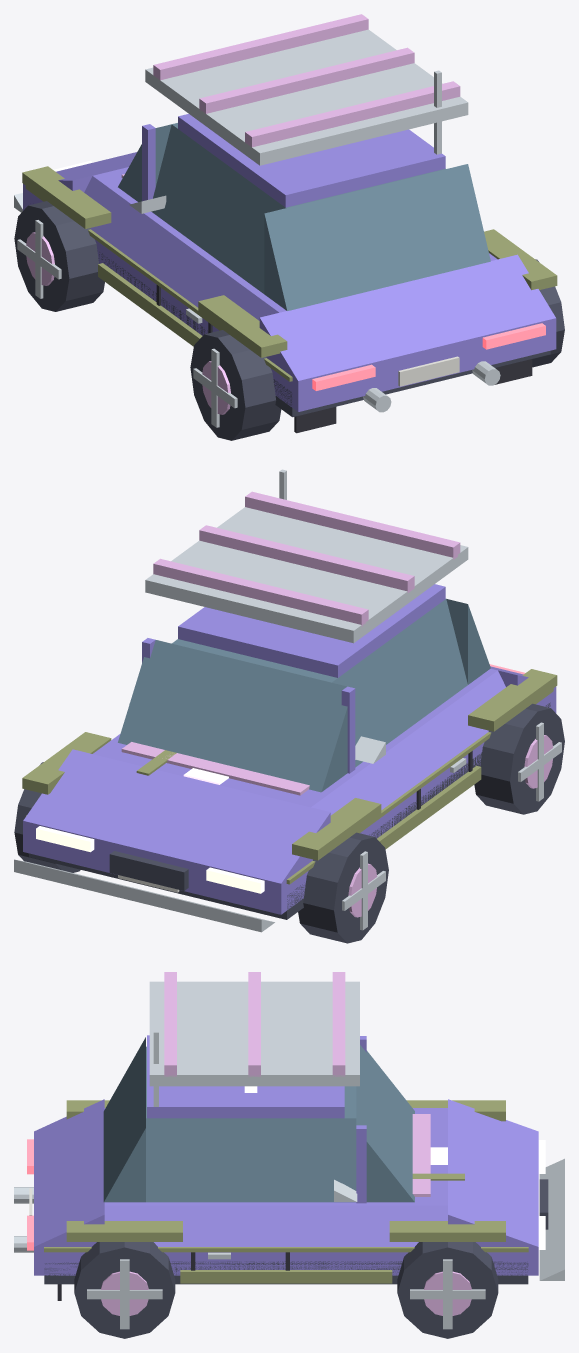
Rendered from signal_shuttle.glb.
The picture shows the model from 3 angles, top to bottom: view 1: azimuth 30°, elevation 25°; view 2: azimuth 150°, elevation 25°; view 3: azimuth 270°, elevation 25°; orthographic projection. The views are drawn at different scales.
Parts seen in each view (by area): view 1: RearWindow.152, Tail.052, RoofRack.014, CabinSideL.049, Roof.252, Body.252, ShoulderL.049, Wheel_RL.212, Wheel_FL.212, RackBar0.015, RackBar-0.015, RackBar1.015 (+21 smaller); view 2: Windshield.152, Nose.049, RoofRack.014, CabinSideL.049, Roof.252, ShoulderL.049, Body.252, Wheel_FL.212, Wheel_RL.212, RackBar0.015, RackBar-0.015, RackBar1.015 (+19 smaller); view 3: RoofRack.014, CabinSideR.049, ShoulderR.049, Nose.049, Tail.052, Windshield.152, Roof.252, Body.252, Wheel_FR.212, Wheel_RR.212, RearWindow.152, SideSkirt1.148 (+19 smaller).
Boxes of the visible parts, bbox=[...] form: RearWindow.152: bbox=[264, 164, 490, 310]; Tail.052: bbox=[259, 254, 555, 380]; RoofRack.014: bbox=[145, 29, 468, 165]; CabinSideL.049: bbox=[151, 124, 285, 293]; Roof.252: bbox=[178, 114, 445, 207]; Body.252: bbox=[23, 184, 556, 411]; ShoulderL.049: bbox=[84, 176, 278, 320]; Wheel_RL.212: bbox=[190, 330, 281, 440]; Wheel_FL.212: bbox=[14, 201, 104, 311]; RackBar0.015: bbox=[199, 47, 414, 113]; RackBar-0.015: bbox=[153, 14, 368, 80]; RackBar1.015: bbox=[245, 81, 460, 147]; Windshield.152: bbox=[118, 640, 347, 792]; Nose.049: bbox=[23, 749, 330, 883]; RoofRack.014: bbox=[145, 507, 468, 643]; CabinSideL.049: bbox=[332, 599, 467, 767]; Roof.252: bbox=[178, 584, 445, 677]; ShoulderL.049: bbox=[311, 670, 505, 815]; Body.252: bbox=[23, 686, 556, 914]; Wheel_FL.212: bbox=[298, 832, 388, 943]; Wheel_RL.212: bbox=[474, 703, 564, 814]; RackBar0.015: bbox=[199, 525, 414, 592]; RackBar-0.015: bbox=[153, 558, 368, 626]; RackBar1.015: bbox=[245, 491, 460, 559]; RoofRack.014: bbox=[149, 981, 359, 1086]; CabinSideR.049: bbox=[146, 1118, 356, 1202]; ShoulderR.049: bbox=[104, 1205, 447, 1246]; Nose.049: bbox=[448, 1099, 538, 1246]; Tail.052: bbox=[34, 1099, 104, 1246]; Windshield.152: bbox=[356, 1045, 414, 1202]; Roof.252: bbox=[147, 1035, 344, 1118]; Body.252: bbox=[34, 1247, 538, 1275]; Wheel_FR.212: bbox=[397, 1242, 498, 1338]; Wheel_RR.212: bbox=[74, 1242, 175, 1338]; RearWindow.152: bbox=[103, 1037, 145, 1202]; SideSkirt1.148: bbox=[180, 1270, 392, 1283].
Bounding box in the file's own units: 3.3 × 2.84 × 5.24.
